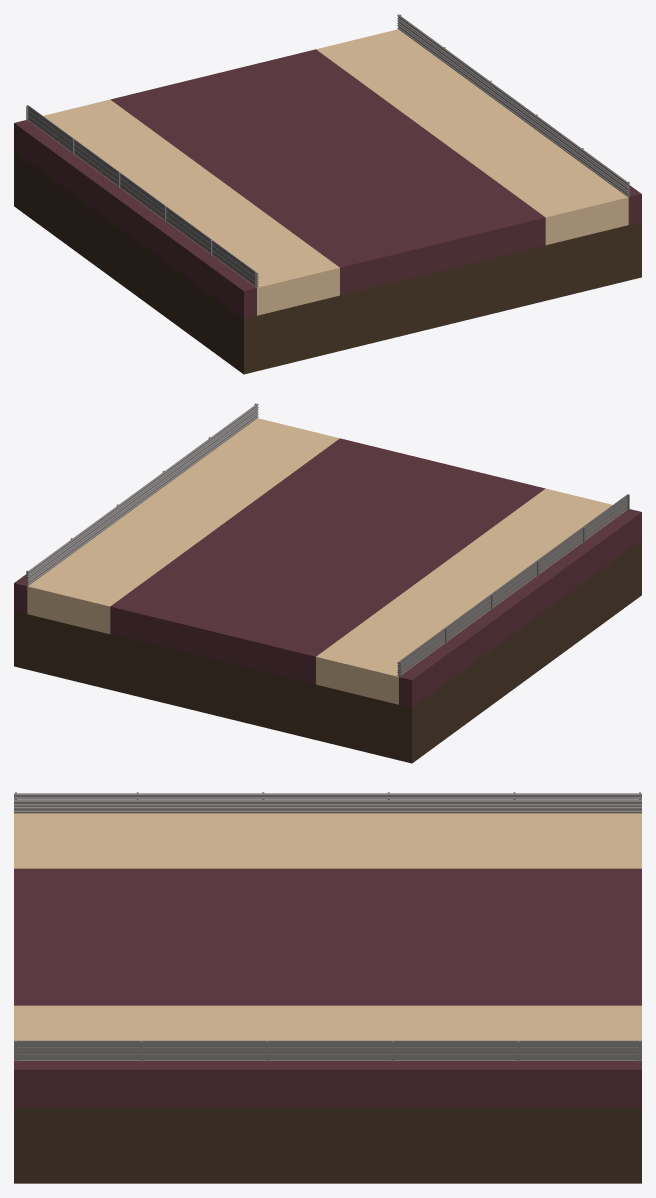
The model's file is tile-race-track-straight-curbs-sand.fbx.
3 renders of one model, top to bottom at view 1: azimuth 30°, elevation 25°; view 2: azimuth 150°, elevation 25°; view 3: azimuth 270°, elevation 25°, orthographic. The views are drawn at different scales.
Parts seen in each view (by area): view 1: tile-race-track-straight-curbs-sand; view 2: tile-race-track-straight-curbs-sand; view 3: tile-race-track-straight-curbs-sand.
Boxes of the visible parts, x1=… form: tile-race-track-straight-curbs-sand: x1=14, y1=14, x2=641, y2=374; tile-race-track-straight-curbs-sand: x1=14, y1=403, x2=641, y2=763; tile-race-track-straight-curbs-sand: x1=14, y1=792, x2=641, y2=1183.
Size of the model in its own units: 30 by 7.05 by 30.
